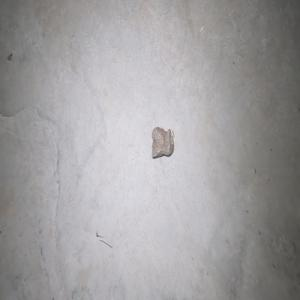Rock: (151, 124, 174, 158)
